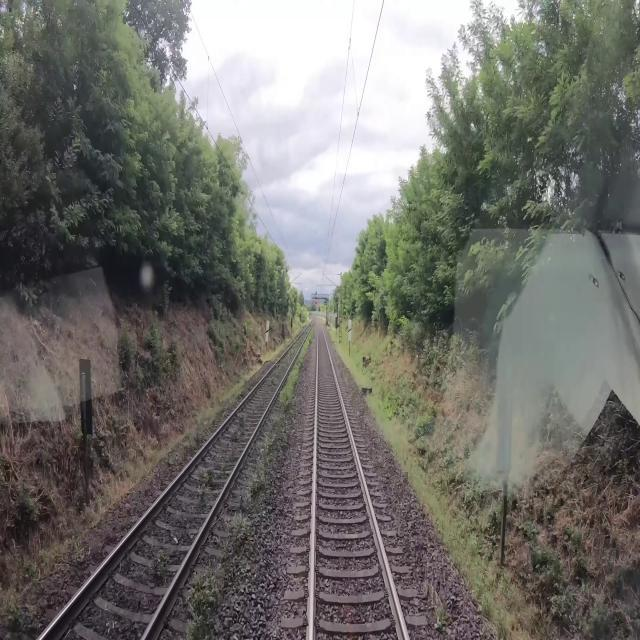Plant: (279, 327, 314, 405), (248, 415, 281, 495), (188, 571, 218, 639), (230, 510, 250, 548), (434, 597, 450, 627), (155, 549, 169, 577), (219, 547, 232, 570), (197, 467, 213, 485), (199, 488, 209, 505)
